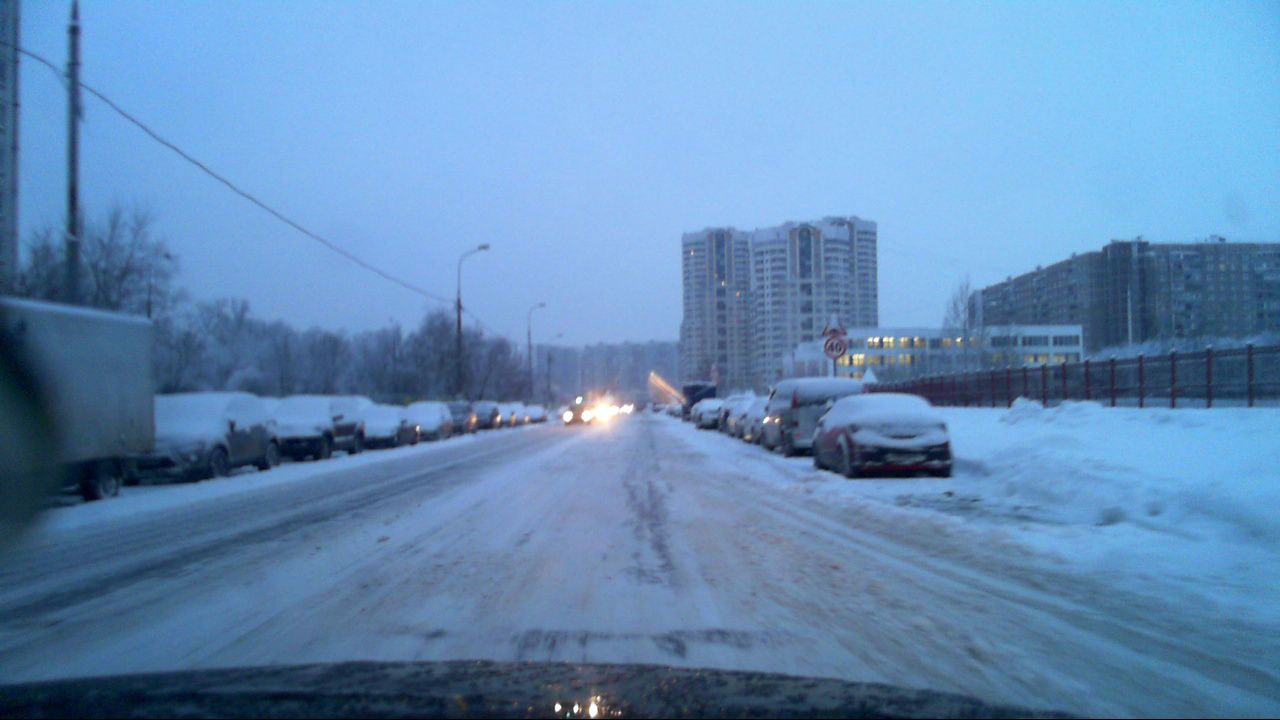speed_warning_40: (824, 333, 849, 361)
